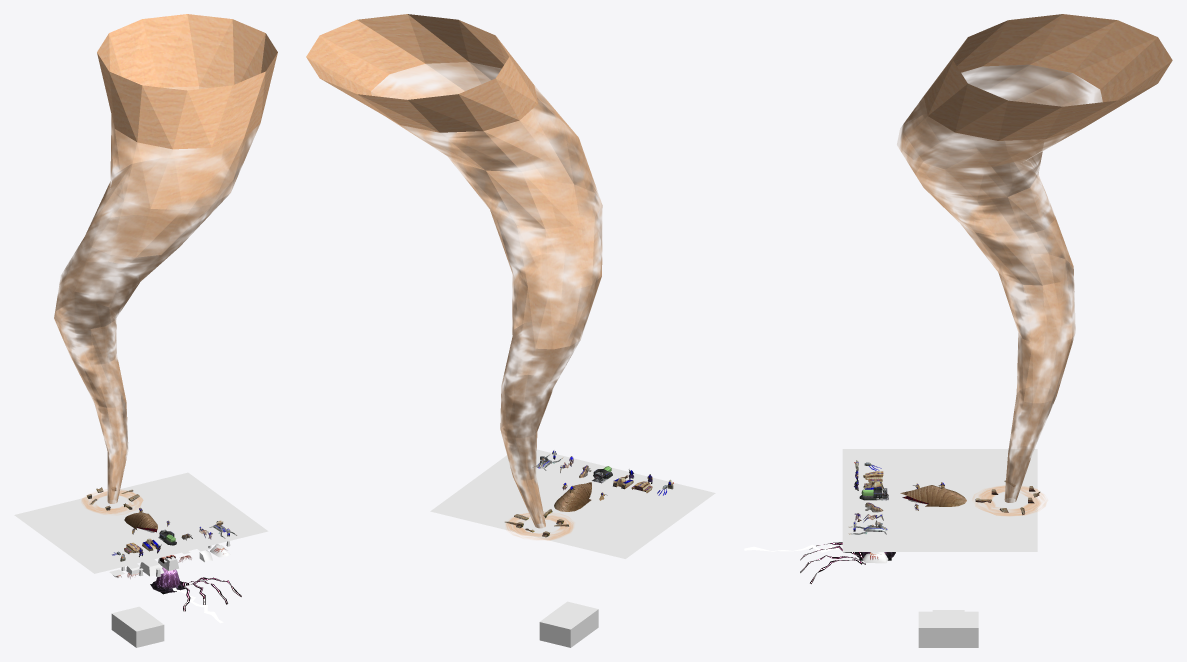
The model's file is emperor_battle_for_dune_-_models_part_4.glb.
3 renders of one model, left to right at view 1: azimuth 30°, elevation 25°; view 2: azimuth 150°, elevation 25°; view 3: azimuth 270°, elevation 25°, orthographic. The views are drawn at different scales.
Parts seen in each view (by area): view 1: ?tornado_2, Plane.002_0, SLCTwormrider.001_147, ?skirt02_1, ?potal.003_111, ?worm~.001_143; view 2: ?tornado_2, Plane.002_0, SLCTwormrider.001_147, ?skirt02_1, ?worm~.001_143; view 3: ?tornado_2, Plane.002_0, SLCTwormrider.001_147, ?skirt02_1, ?worm~.001_143.
Part boxes in pixels (<box>): ?tornado_2: <box>54,14,277,503</box>; Plane.002_0: <box>14,472,268,573</box>; SLCTwormrider.001_147: <box>111,606,164,647</box>; ?skirt02_1: <box>81,489,143,514</box>; ?potal.003_111: <box>151,567,184,592</box>; ?worm~.001_143: <box>124,512,157,529</box>; ?tornado_2: <box>306,14,602,528</box>; Plane.002_0: <box>430,446,715,558</box>; SLCTwormrider.001_147: <box>539,601,598,647</box>; ?skirt02_1: <box>505,512,573,540</box>; ?worm~.001_143: <box>554,482,591,511</box>; ?tornado_2: <box>897,14,1172,502</box>; Plane.002_0: <box>842,449,1037,551</box>; SLCTwormrider.001_147: <box>918,611,978,647</box>; ?skirt02_1: <box>972,485,1046,516</box>; ?worm~.001_143: <box>900,485,966,506</box>.
Bounding box in the file's own units: 3.61 × 6.91 × 4.22.
Materials: 39 (32 with a texture image).
